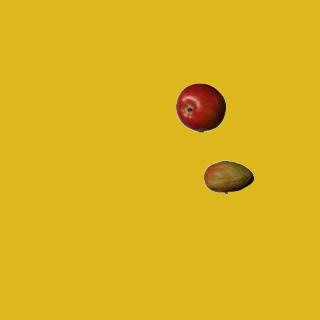Apple Braeburn: (175, 82, 225, 132)
Papaya: (203, 152, 253, 202)
